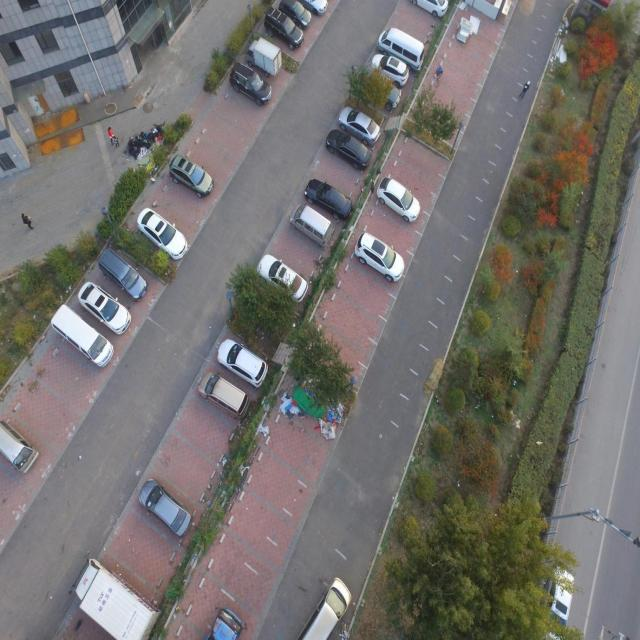p3rson: (519, 80, 530, 99), (108, 126, 118, 144), (21, 213, 33, 228), (113, 136, 119, 146)
